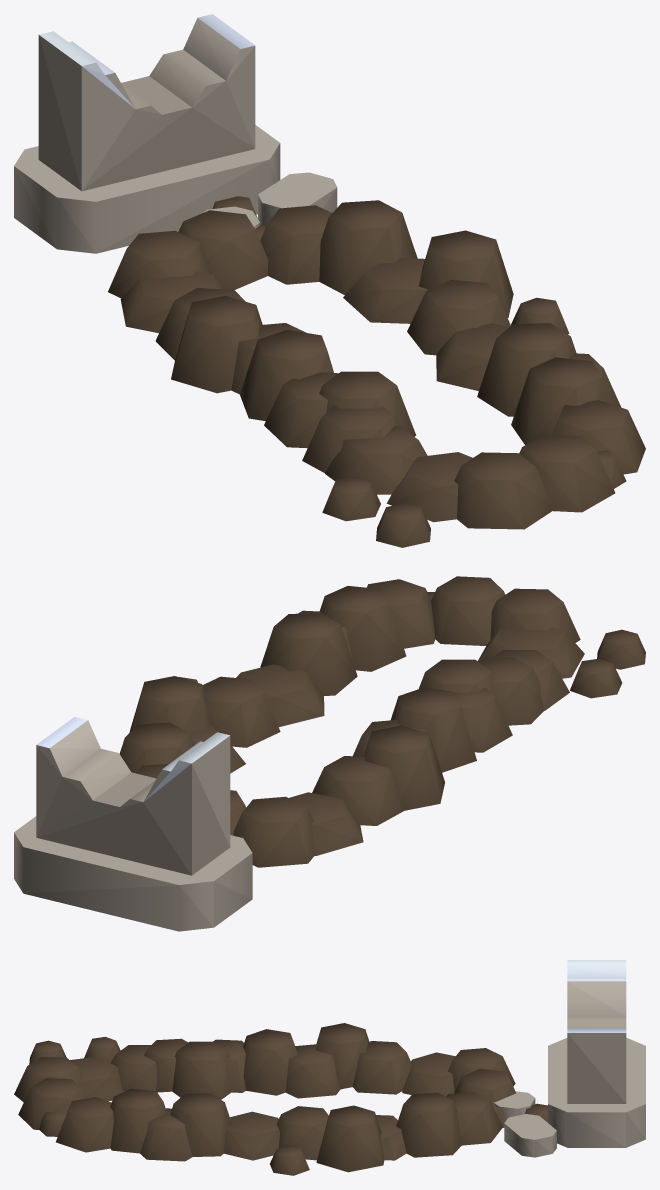
Rendered from kenney_graveyard_grave_border_gravestone_broken.glb.
3 views of the same model, one above another, from view 1: azimuth 30°, elevation 25°; view 2: azimuth 150°, elevation 25°; view 3: azimuth 270°, elevation 25° (orthographic). The views are drawn at different scales.
Visible parts, largest first — view 1: stone (×2), cloth; view 2: stone (×2), cloth; view 3: stone (×2), cloth.
Part boxes in pixels (x1,y1,x2,y2): stone (×2): (14,18,645,547); cloth: (39,14,254,108); stone (×2): (14,576,645,931); cloth: (36,717,229,801); stone (×2): (14,981,645,1175); cloth: (567,960,626,1032).
Size of the model in its own units: 0.7617 by 0.3411 by 1.61.
